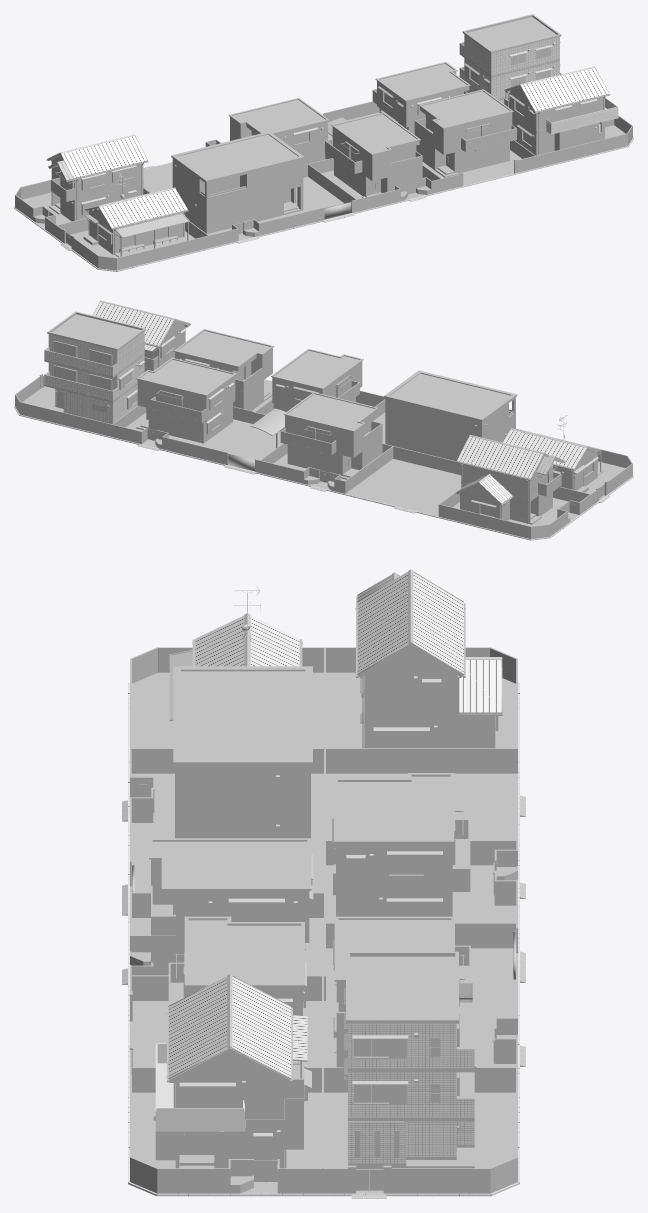
File: Street_H.fbx
3 renders of one model, top to bottom at view 1: azimuth 30°, elevation 25°; view 2: azimuth 150°, elevation 25°; view 3: azimuth 270°, elevation 25°, orthographic. The views are drawn at different scales.
Parts seen in each view (by area): view 1: Street_H; view 2: Street_H; view 3: Street_H.
Part boxes in pixels (<box>): Street_H: <box>14,14,633,271</box>; Street_H: <box>14,300,633,540</box>; Street_H: <box>122,569,525,1198</box>.
Bounding box in the file's own units: 6440 × 860 × 2081.
